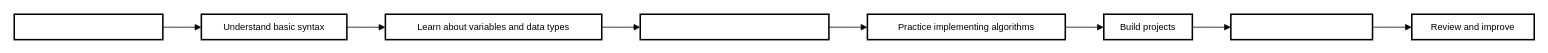
Some shapes in this 1548 by 53 pixel diagram are drawn without their labels. Here are the shapes that lost their labels. From the top down, the centre of each, then its label:
pixel 88 26: Select a coding language
pixel 734 26: Explore control flow statements
pixel 1301 26: Collaborate with others
